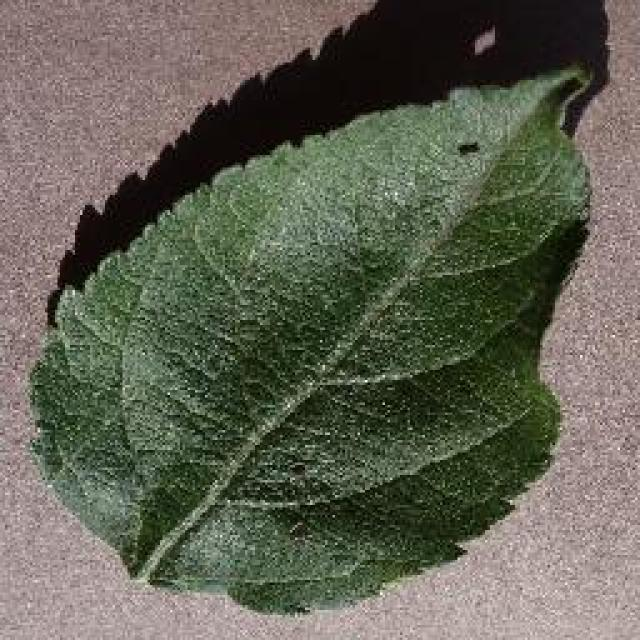apple healthy: (25, 53, 597, 615)
